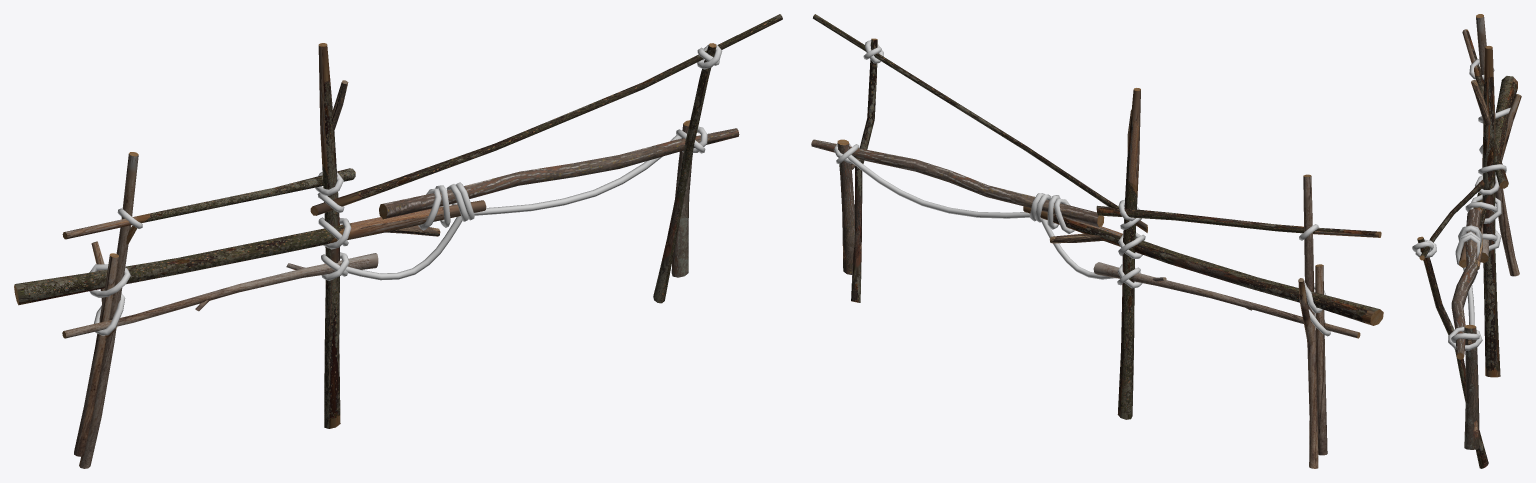
File: village_wood_fence_03.fbx
3 renders of one model, left to right at view 1: azimuth 30°, elevation 25°; view 2: azimuth 150°, elevation 25°; view 3: azimuth 270°, elevation 25°, orthographic. The views are drawn at different scales.
Visible parts, largest first — view 1: village_wood_fence_03; view 2: village_wood_fence_03; view 3: village_wood_fence_03.
Boxes of the visible parts, x1,y1,x2,y2 form: village_wood_fence_03: (14, 14, 782, 468); village_wood_fence_03: (811, 14, 1383, 468); village_wood_fence_03: (1412, 14, 1521, 468).
Bounding box in the file's own units: 468 × 241 × 73.4.
